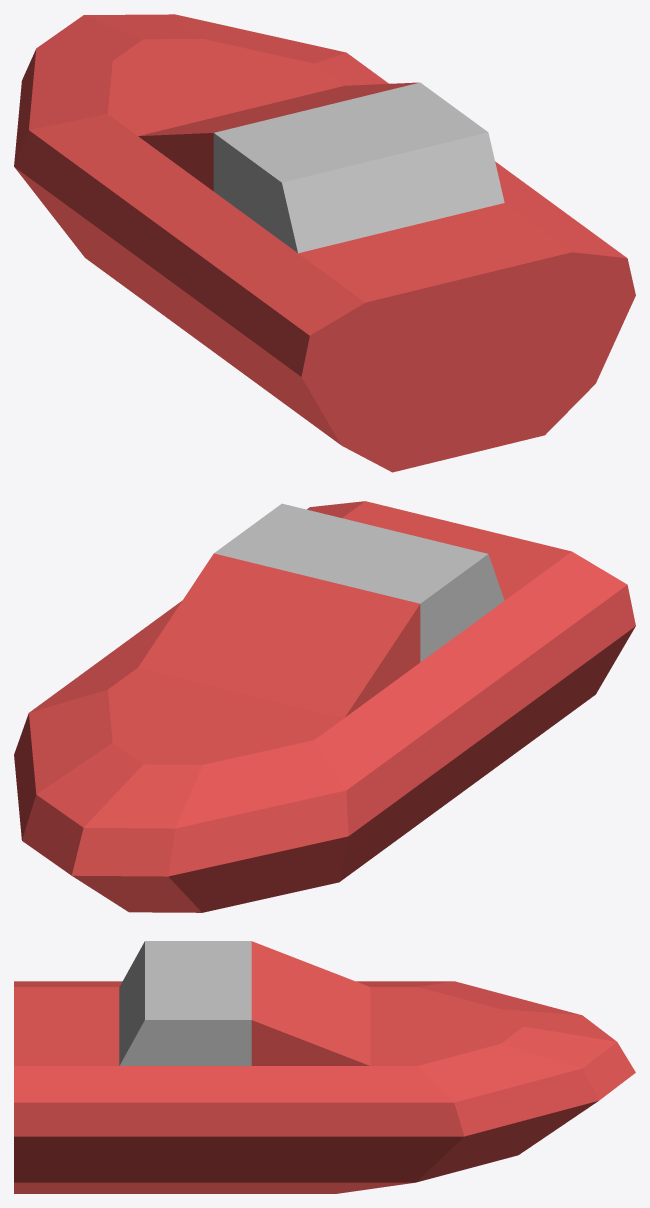
Rendered from boat_018.fbx.
3 renders of one model, top to bottom at view 1: azimuth 30°, elevation 25°; view 2: azimuth 150°, elevation 25°; view 3: azimuth 270°, elevation 25°, orthographic. The views are drawn at different scales.
Visible parts, largest first — view 1: boat_018; view 2: boat_018; view 3: boat_018.
Part boxes in pixels (x1,y1,x2,y2): boat_018: (14,14,635,472); boat_018: (14,501,635,912); boat_018: (14,941,635,1193).
Bounding box in the file's own units: 17.85 × 12 × 36.7.
